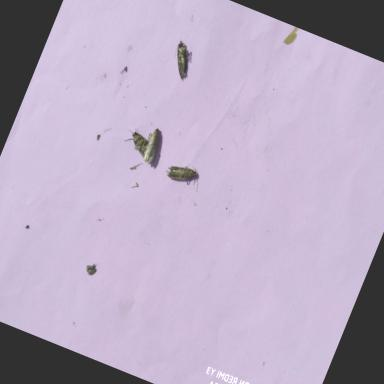pbw: (165, 38, 197, 82), (162, 158, 201, 190), (120, 125, 153, 158), (138, 126, 165, 166)
